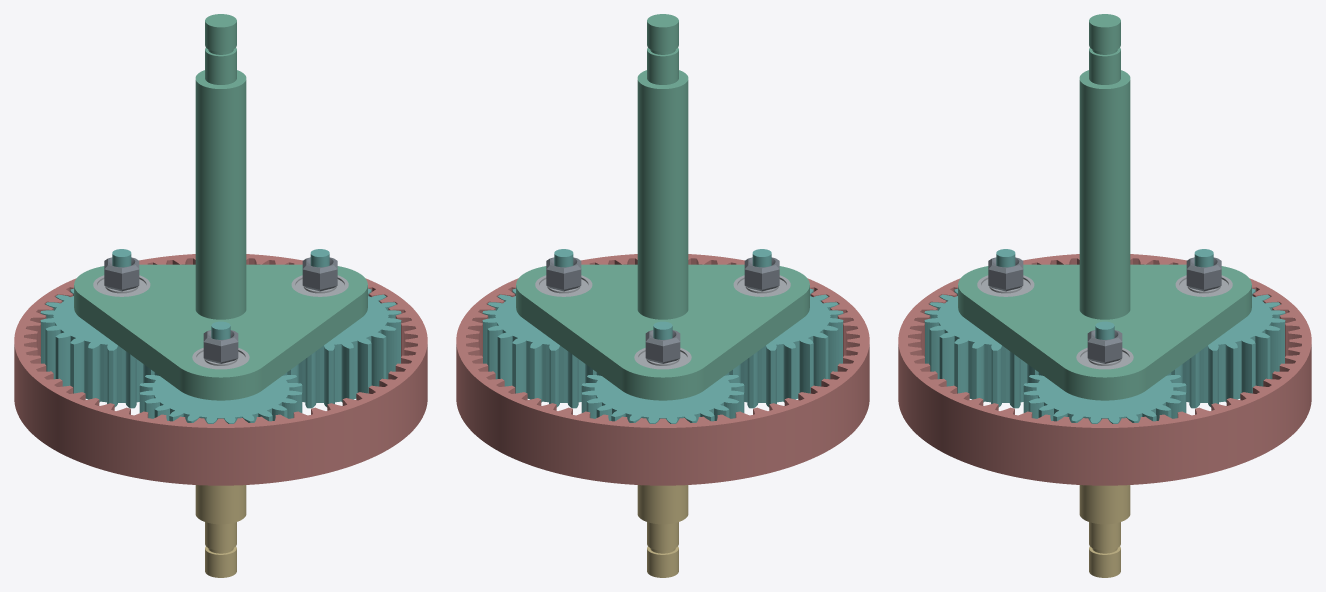
The model's file is ax_planetary_gears.glb.
3 renders of one model, left to right at view 1: azimuth 30°, elevation 25°; view 2: azimuth 150°, elevation 25°; view 3: azimuth 270°, elevation 25°, orthographic.
Visible parts, largest first — view 1: carrier, ring gear, planet gear 1, planet gear 2, planet gear 3, sun gear, lock nut M3 1, lock nut M3 2, lock nut M3 3, bearing 3, bearing 1, bearing 2; view 2: carrier, ring gear, planet gear 1, planet gear 3, planet gear 2, sun gear, lock nut M3 1, lock nut M3 3, lock nut M3 2, bearing 2, bearing 1, bearing 3; view 3: carrier, ring gear, planet gear 2, planet gear 3, planet gear 1, sun gear, lock nut M3 2, lock nut M3 3, lock nut M3 1, bearing 1, bearing 2, bearing 3.
Boxes of the visible parts, <box> form: carrier: <box>74,14,367,400</box>; ring gear: <box>14,254,427,485</box>; planet gear 1: <box>287,249,401,408</box>; planet gear 2: <box>40,249,154,408</box>; planet gear 3: <box>139,321,302,423</box>; sun gear: <box>195,485,246,577</box>; lock nut M3 1: <box>302,257,337,291</box>; lock nut M3 2: <box>104,257,139,291</box>; lock nut M3 3: <box>203,330,238,363</box>; bearing 3: <box>192,348,249,369</box>; bearing 1: <box>291,275,348,296</box>; bearing 2: <box>93,275,150,296</box>; carrier: <box>516,14,809,400</box>; ring gear: <box>456,254,869,485</box>; planet gear 1: <box>482,249,596,408</box>; planet gear 3: <box>729,249,843,408</box>; planet gear 2: <box>581,321,744,423</box>; sun gear: <box>637,485,688,577</box>; lock nut M3 1: <box>546,257,581,291</box>; lock nut M3 3: <box>744,257,779,291</box>; lock nut M3 2: <box>645,330,680,363</box>; bearing 2: <box>634,348,691,369</box>; bearing 1: <box>535,275,592,296</box>; bearing 3: <box>733,275,790,296</box>; carrier: <box>958,14,1251,400</box>; ring gear: <box>898,254,1311,485</box>; planet gear 2: <box>1171,249,1285,408</box>; planet gear 3: <box>924,249,1038,408</box>; planet gear 1: <box>1023,321,1186,423</box>; sun gear: <box>1079,485,1130,577</box>; lock nut M3 2: <box>1186,257,1221,291</box>; lock nut M3 3: <box>988,257,1023,291</box>; lock nut M3 1: <box>1087,330,1122,363</box>; bearing 1: <box>1076,348,1133,369</box>; bearing 2: <box>1175,275,1232,296</box>; bearing 3: <box>977,275,1034,296</box>.
Size of the model in its own units: 65 by 95.5 by 64.98.
